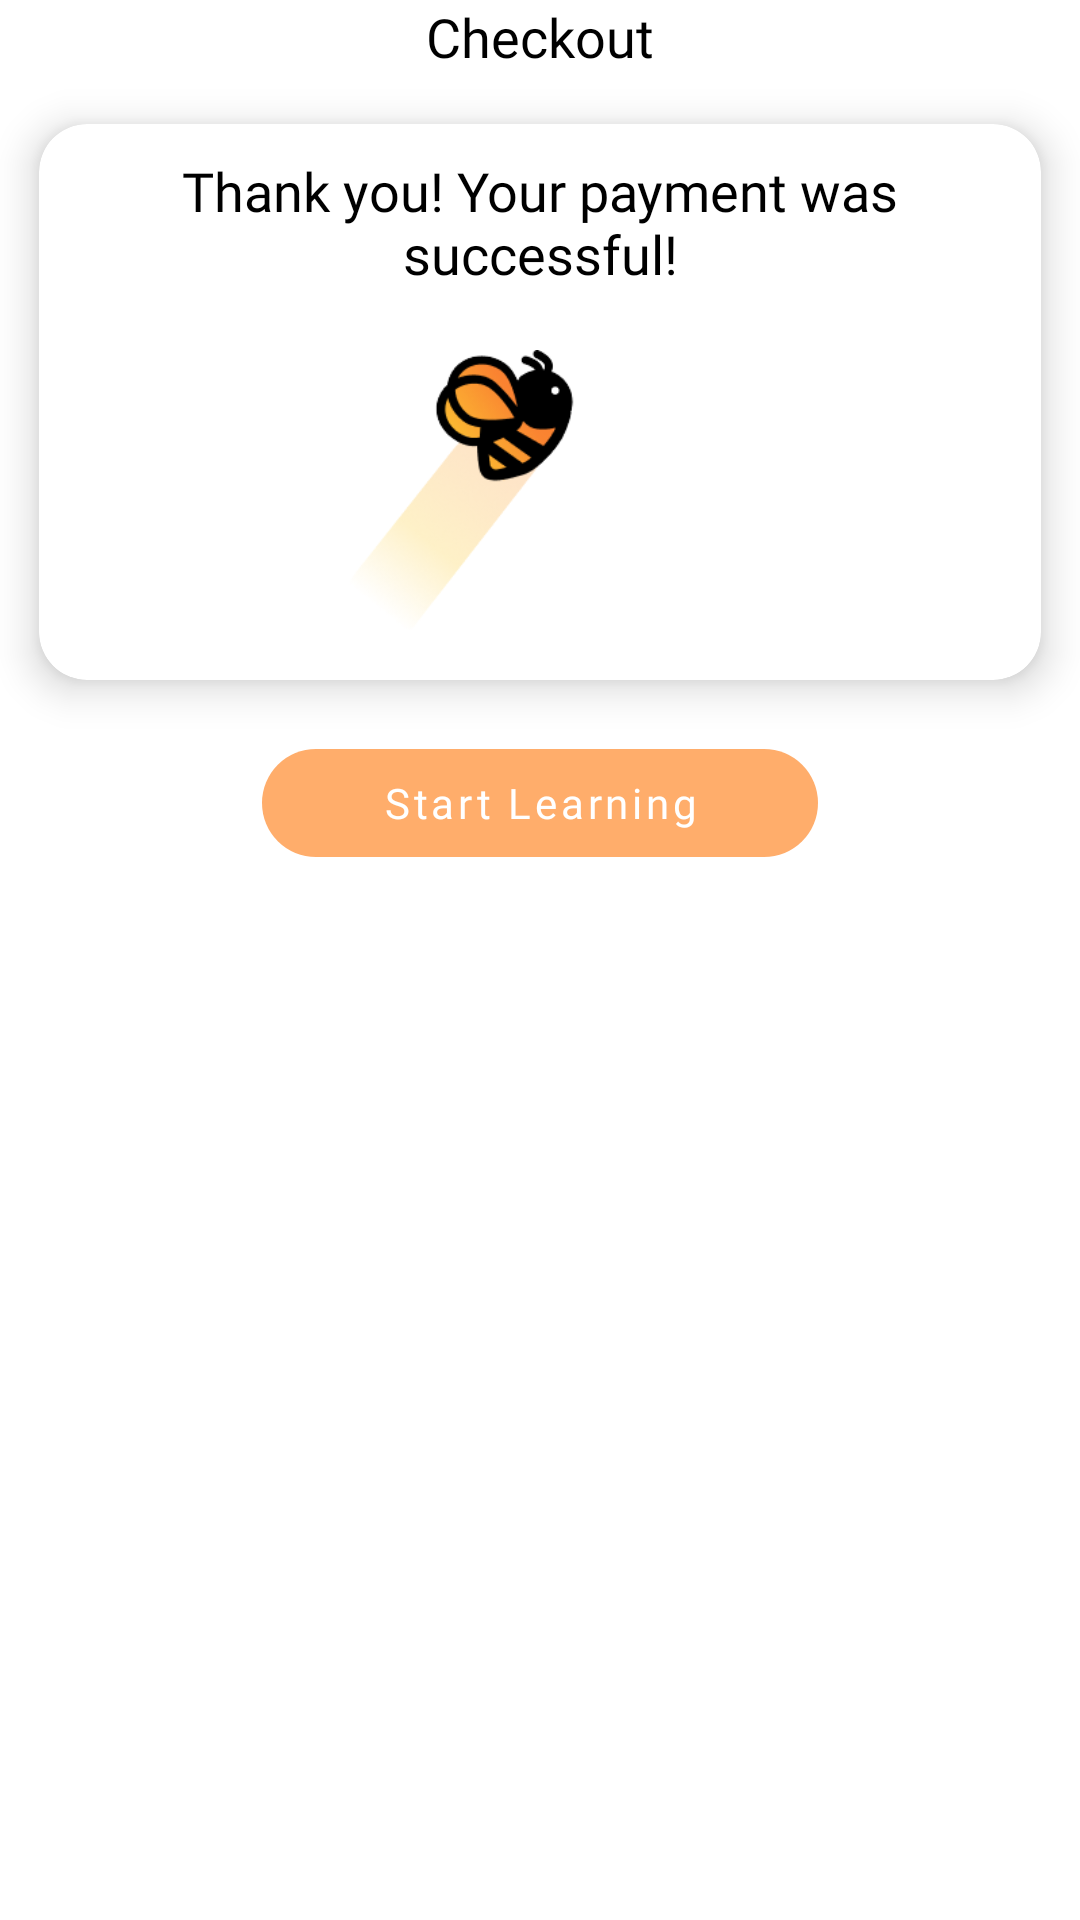

Icon bounding boxes for this 1080 × 1920 phone screenshot, format [x1,y1,x2,y2]:
checkout bee: [372,350,574,603]
